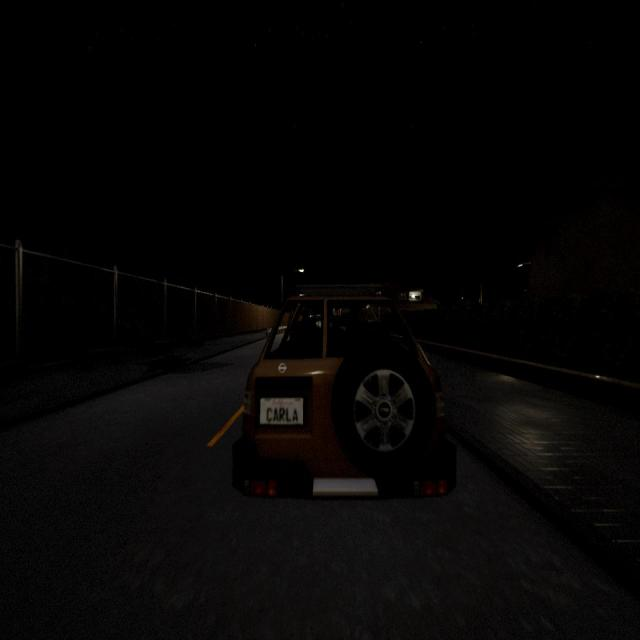Vehicle: (232, 287, 456, 496)
